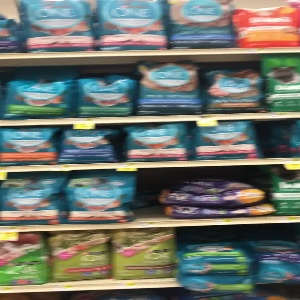void: (131, 168, 171, 222)
